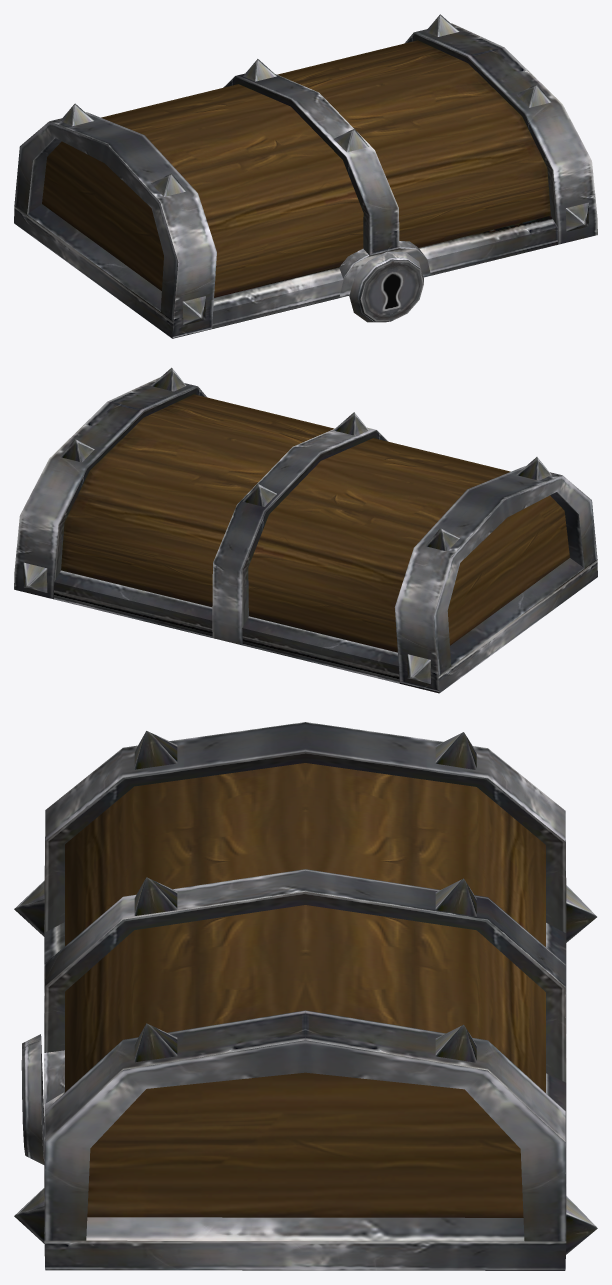
The model's file is treasure-chest-top.glb.
3 renders of one model, top to bottom at view 1: azimuth 30°, elevation 25°; view 2: azimuth 150°, elevation 25°; view 3: azimuth 270°, elevation 25°, orthographic. The views are drawn at different scales.
Visible parts, largest first — view 1: ChestTop; view 2: ChestTop; view 3: ChestTop.
Boxes of the visible parts, x1=… form: ChestTop: x1=14, y1=14, x2=597, y2=338; ChestTop: x1=14, y1=367, x2=597, y2=693; ChestTop: x1=14, y1=722, x2=597, y2=1270.
Size of what is drawn, in the model's own units: 1.07 by 0.4131 by 0.778.
Materials: 1 (1 with a texture image).
